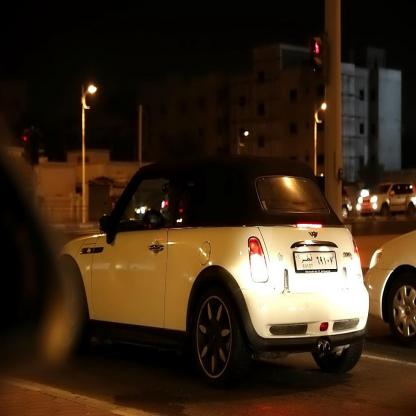Car: (59, 154, 369, 387), (364, 227, 415, 348), (355, 180, 415, 217), (342, 186, 353, 218)
